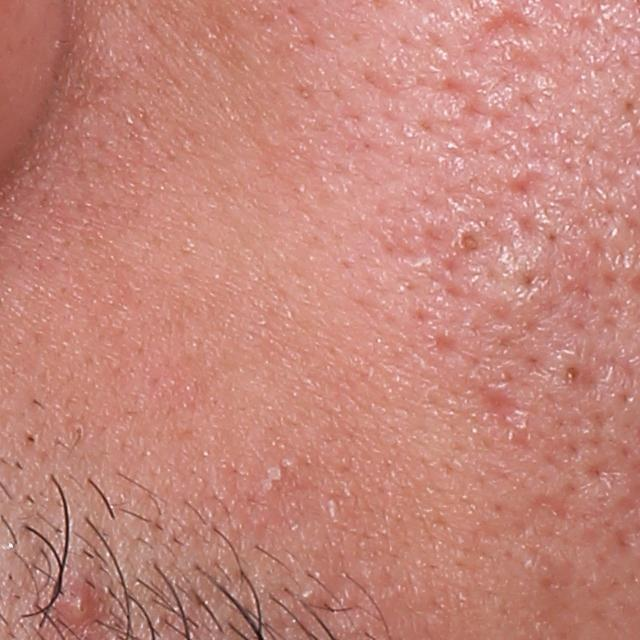atrophic_scar: (473, 385, 541, 445), (473, 7, 540, 41), (500, 168, 545, 201)
comedo: (560, 367, 586, 387)
pustule: (59, 584, 95, 631)
